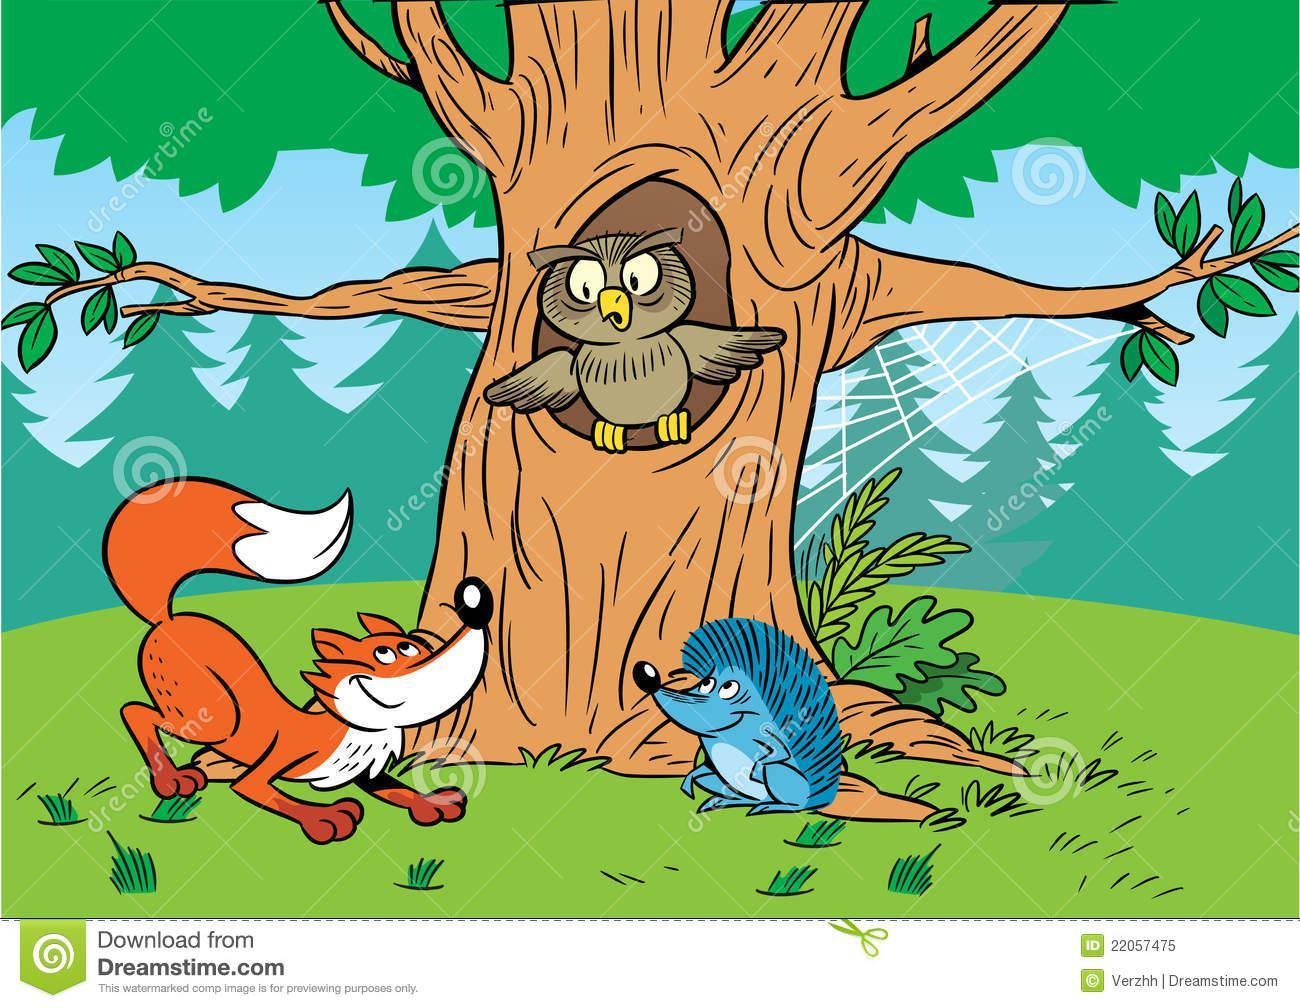bird: (469, 232, 789, 451)
